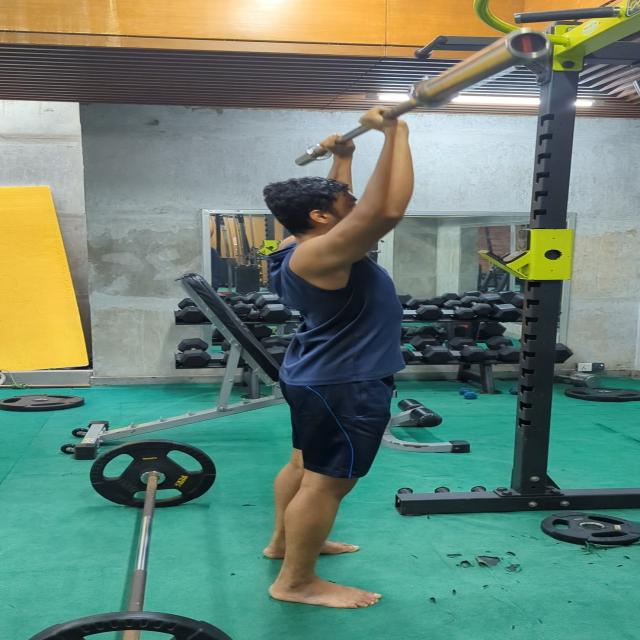Normal_OverheadPress: (210, 110, 477, 625)
